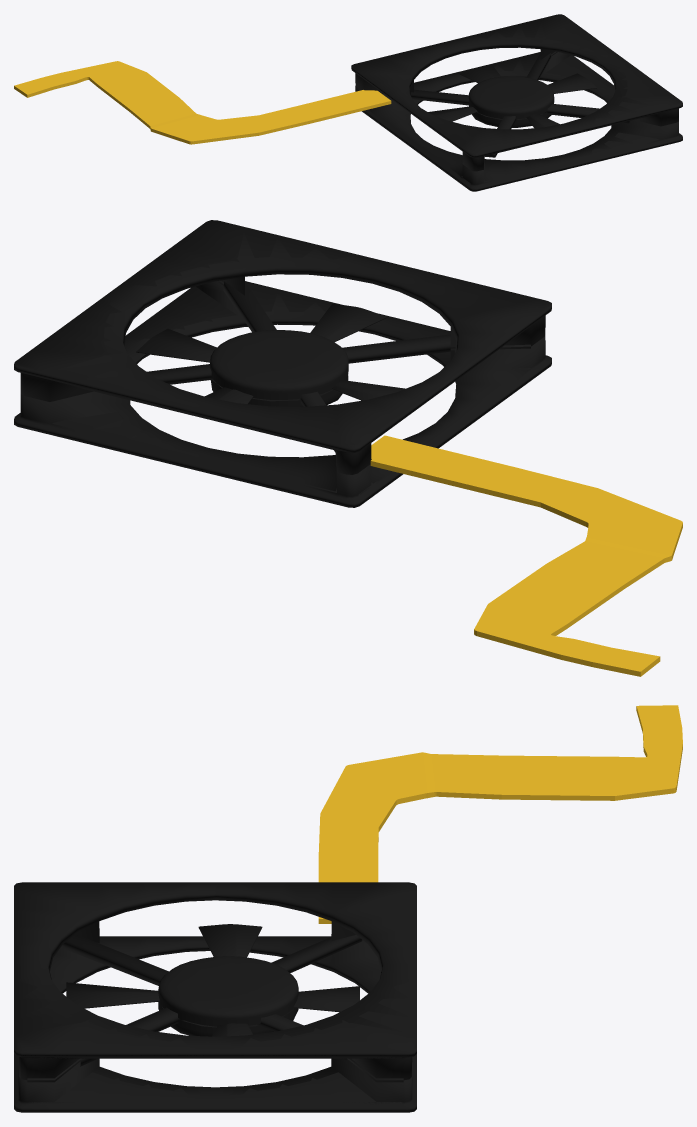
File: fan dan heatsink_Scene.fbx
The picture shows the model from 3 angles, top to bottom: view 1: azimuth 30°, elevation 25°; view 2: azimuth 150°, elevation 25°; view 3: azimuth 270°, elevation 25°; orthographic projection. The views are drawn at different scales.
Parts seen in each view (by area): view 1: Plane.006, Plane.001; view 2: Plane.006, Plane.001; view 3: Plane.006, Plane.001.
Boxes of the visible parts, <box> form: Plane.006: <box>351,14,682,191</box>; Plane.001: <box>14,61,391,144</box>; Plane.006: <box>14,220,551,507</box>; Plane.001: <box>370,435,682,676</box>; Plane.006: <box>14,882,416,1112</box>; Plane.001: <box>318,705,682,923</box>.
Bounding box in the file's own units: 554 × 41.98 × 419.
